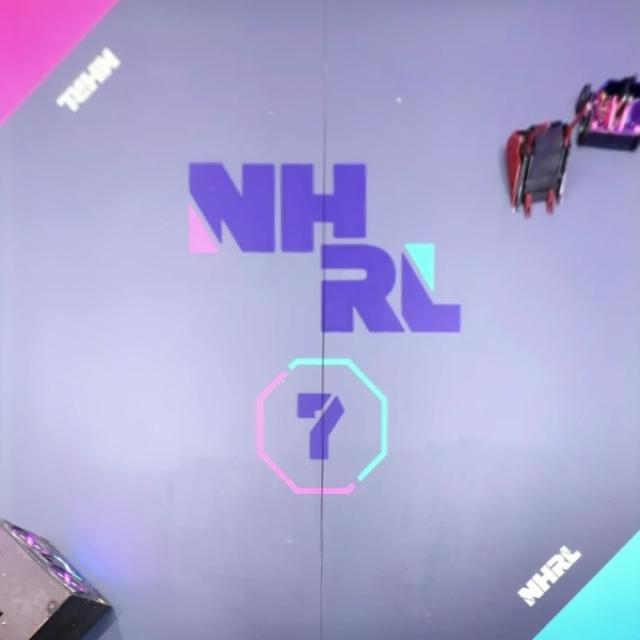housebot: (0, 517, 113, 640)
robot: (502, 111, 588, 218), (576, 72, 640, 152)
